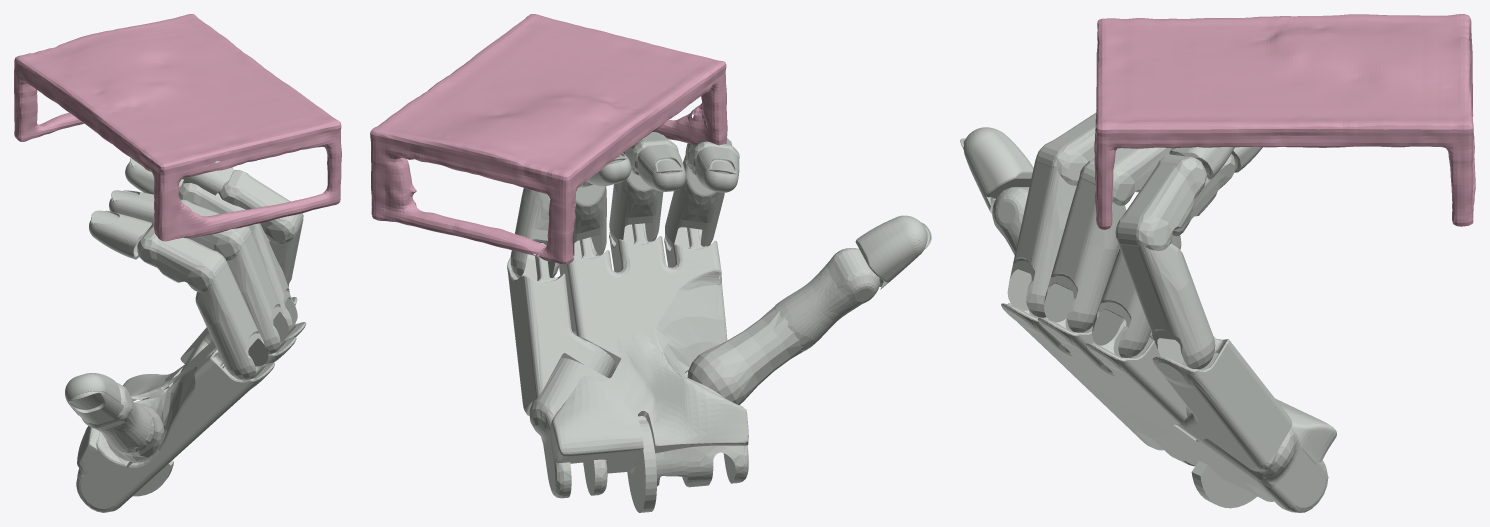
3 renders of one model, left to right at view 1: azimuth 30°, elevation 25°; view 2: azimuth 150°, elevation 25°; view 3: azimuth 270°, elevation 25°, orthographic. The views are drawn at different scales.
Parts seen in each view (by area): view 1: hand, world; view 2: hand, world; view 3: hand, world.
Boxes of the visible parts, bbox=[...] form: hand: bbox=[65, 157, 306, 512]; world: bbox=[14, 14, 341, 241]; hand: bbox=[507, 132, 931, 512]; world: bbox=[370, 14, 727, 264]; hand: bbox=[960, 113, 1336, 512]; world: bbox=[1094, 14, 1475, 229].
Bounding box in the file's own units: 0.1615 × 0.1844 × 0.1786.
